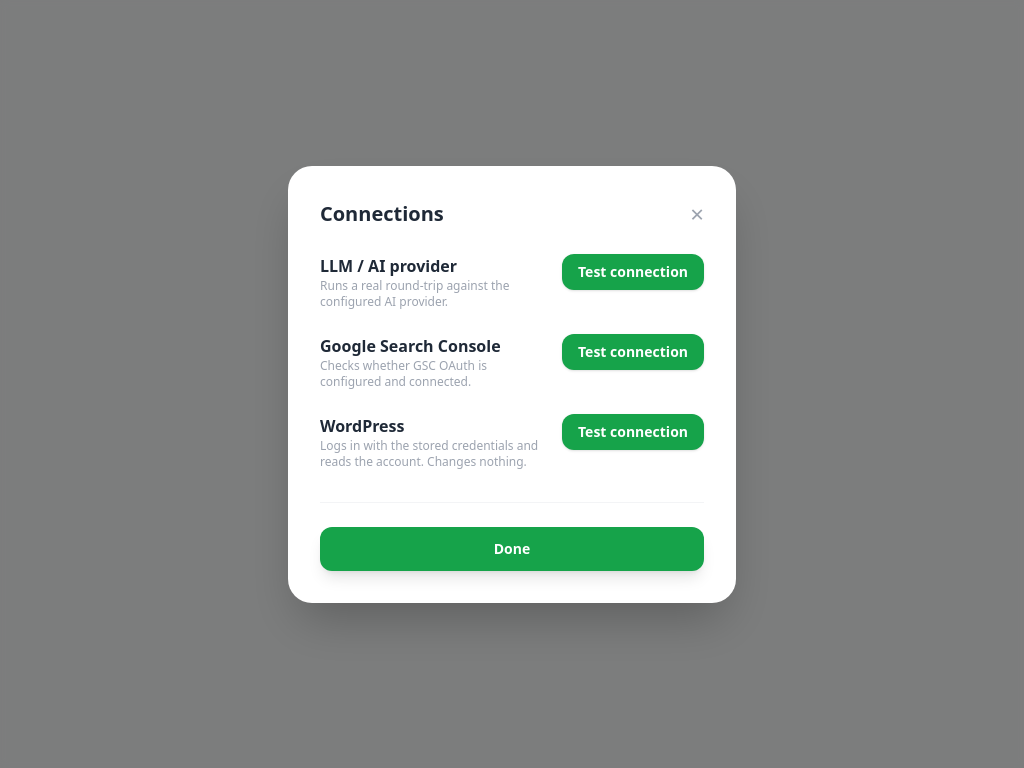
Test case: ConnectionsPanel › LLM test renders success state
The LLM row's Test connection button is the first one.
Step 1. Click the button "Test connection" in the row of "LLM / AI provider" → (633, 272), box [562,254,704,290]
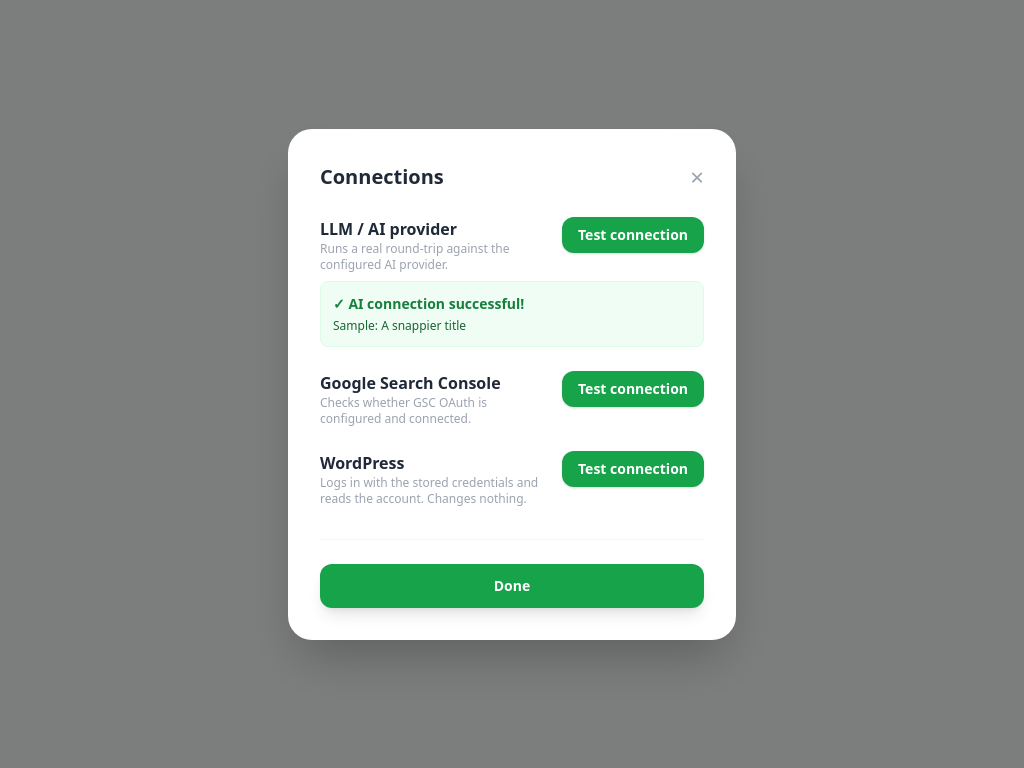
Check: the text "✓ AI connection successful!" is shown, box [333,294,524,312]
Check: the text "Sample: A snappier title" is shown, box [333,316,466,334]
